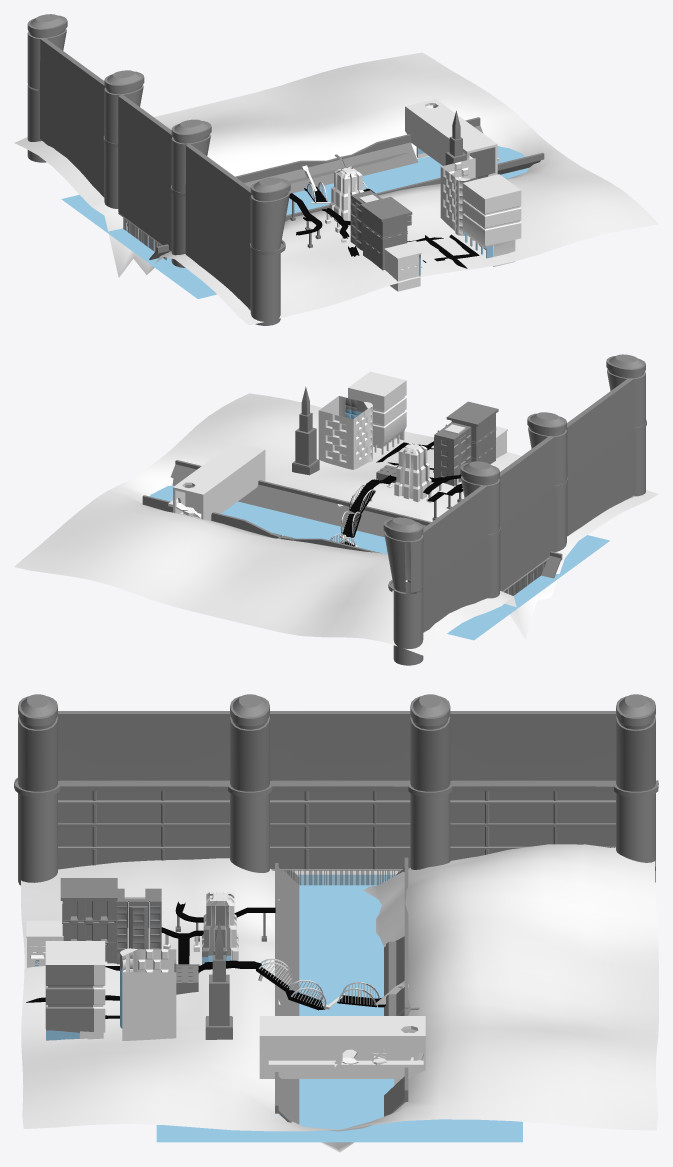
The model's file is BlocagemTeste.fbx.
The picture shows the model from 3 angles, top to bottom: view 1: azimuth 30°, elevation 25°; view 2: azimuth 150°, elevation 25°; view 3: azimuth 270°, elevation 25°; orthographic projection. The views are drawn at different scales.
Parts seen in each view (by area): view 1: Terreno, GrandeBarragemDeAgua, Decoração, Predio4, Predio2, Predio5, Predio1, PredioFuturista, Predio3, RuaDecoracao; view 2: Terreno, GrandeBarragemDeAgua, Decoração, Predio5, Predio4, Predio3, Predio2, PredioFuturista; view 3: Terreno, GrandeBarragemDeAgua, Decoração, Predio4, Predio5, Predio2, Predio3, PredioFuturista, Predio1, RuaDecoracao.
Boxes of the visible parts, x1=… form: Terreno: x1=14, y1=52, x2=658, y2=325; GrandeBarragemDeAgua: x1=27, y1=14, x2=290, y2=325; Decoração: x1=61, y1=99, x2=544, y2=298; Predio4: x1=462, y1=174, x2=521, y2=266; Predio2: x1=360, y1=196, x2=412, y2=270; Predio5: x1=440, y1=158, x2=495, y2=235; Predio1: x1=384, y1=242, x2=422, y2=291; PredioFuturista: x1=329, y1=166, x2=364, y2=226; Predio3: x1=350, y1=190, x2=381, y2=250; RuaDecoracao: x1=289, y1=193, x2=322, y2=248; Terreno: x1=14, y1=393, x2=658, y2=655; GrandeBarragemDeAgua: x1=383, y1=354, x2=646, y2=665; Decoração: x1=142, y1=386, x2=609, y2=640; Predio5: x1=318, y1=396, x2=372, y2=469; Predio4: x1=348, y1=371, x2=406, y2=454; Predio3: x1=434, y1=422, x2=471, y2=485; Predio2: x1=446, y1=401, x2=498, y2=464; PredioFuturista: x1=394, y1=443, x2=431, y2=502; Terreno: x1=20, y1=844, x2=658, y2=1152; GrandeBarragemDeAgua: x1=14, y1=694, x2=658, y2=885; Decoração: x1=26, y1=857, x2=522, y2=1142; Predio4: x1=45, y1=941, x2=105, y2=1040; Predio5: x1=120, y1=948, x2=176, y2=1040; Predio2: x1=60, y1=878, x2=117, y2=963; Predio3: x1=115, y1=888, x2=161, y2=964; PredioFuturista: x1=202, y1=892, x2=238, y2=964; Predio1: x1=26, y1=920, x2=63, y2=967; RuaDecoracao: x1=175, y1=901, x2=275, y2=941.
Bounding box in the file's own units: 34702 × 14678 × 34960.
